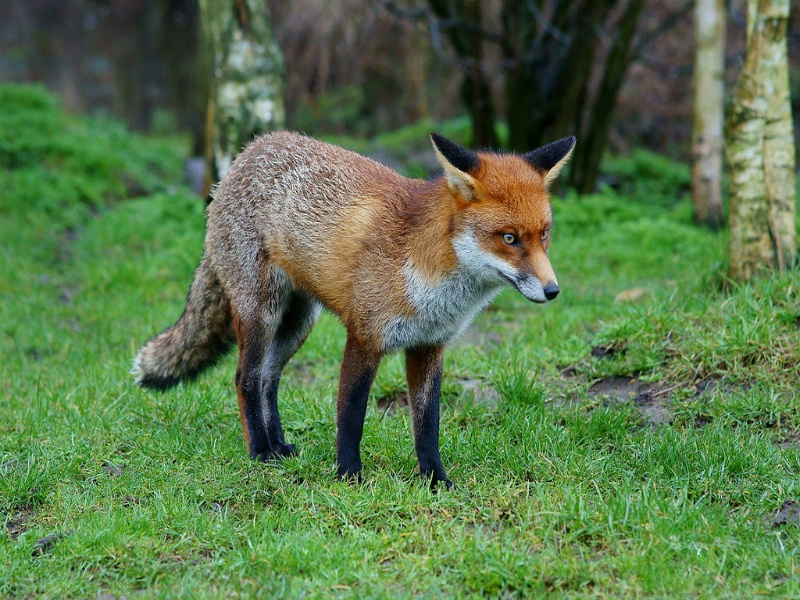fox: (125, 115, 586, 494)
